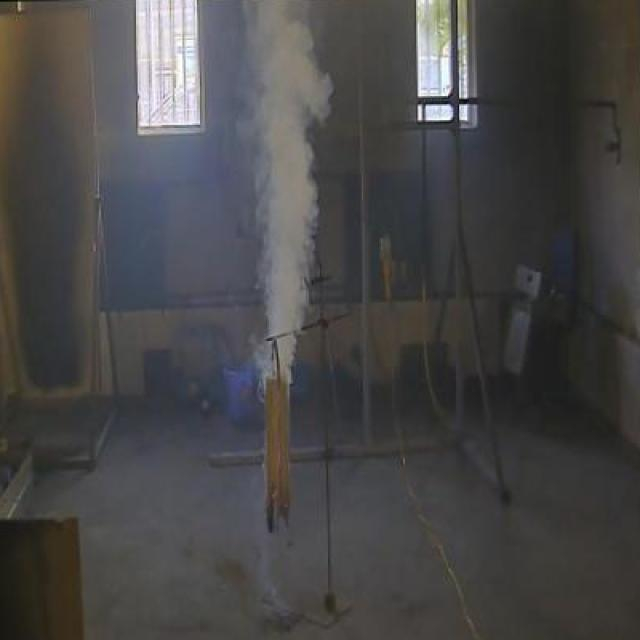fire: (230, 0, 338, 349)
